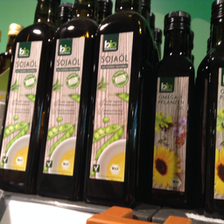oil: (83, 1, 153, 205), (42, 1, 99, 200), (1, 1, 56, 192), (150, 11, 197, 208)
